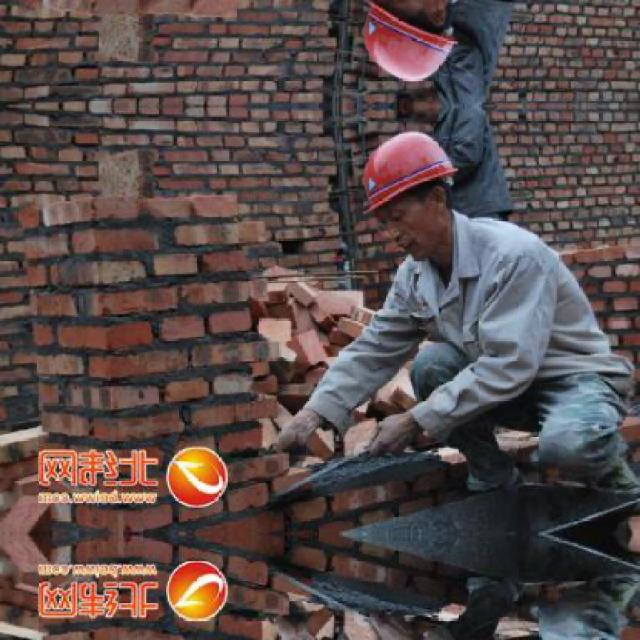helmet: (356, 129, 470, 260), (354, 0, 469, 82)
